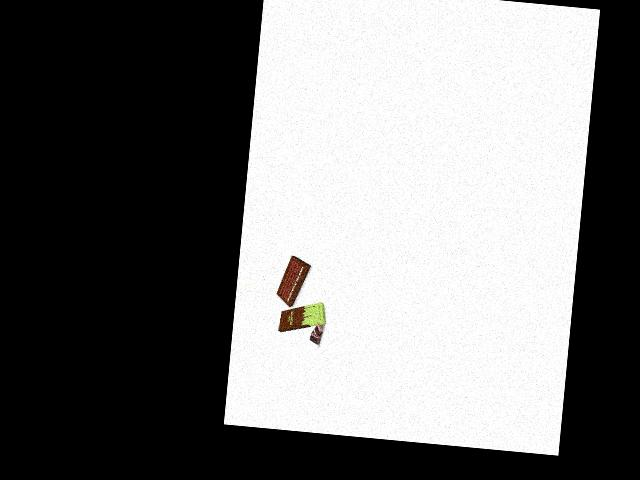chocolate: (277, 300, 329, 332)
